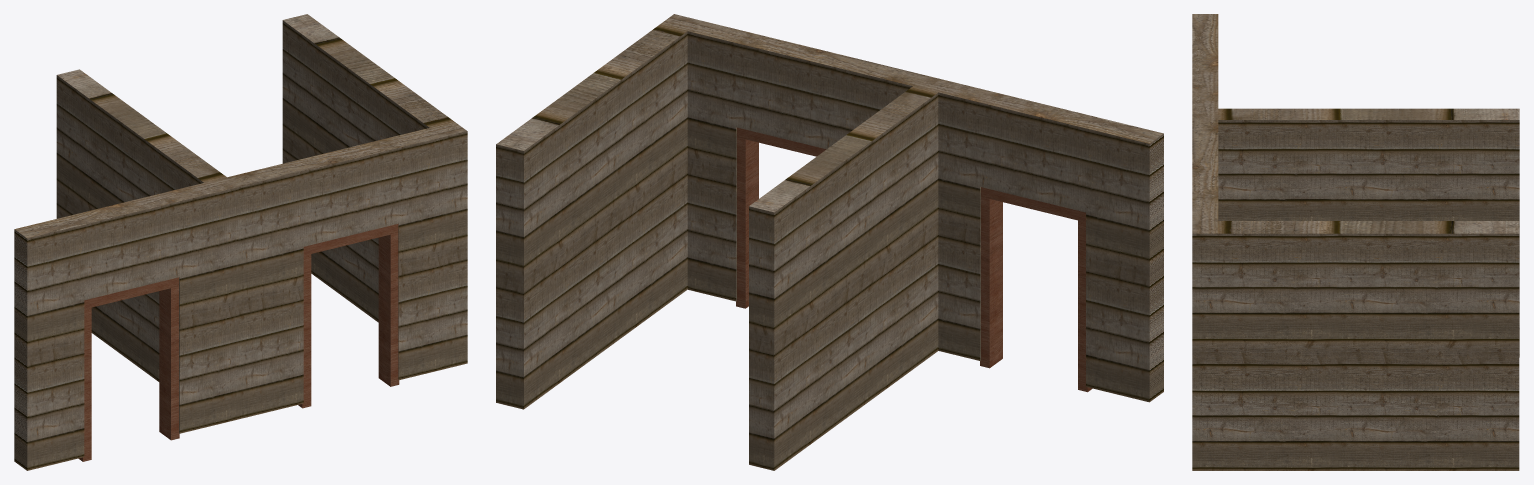
File: Tengah.fbx
3 renders of one model, left to right at view 1: azimuth 30°, elevation 25°; view 2: azimuth 150°, elevation 25°; view 3: azimuth 270°, elevation 25°, orthographic. The views are drawn at different scales.
Visible parts, largest first — view 1: Cube.018; view 2: Cube.018; view 3: Cube.018.
Boxes of the visible parts, x1,y1,x2,y2 form: Cube.018: [14, 14, 467, 470]; Cube.018: [496, 14, 1163, 470]; Cube.018: [1192, 14, 1519, 470].
Size of the model in its own units: 1388 by 715 by 875.
2 materials, 2 textured.
